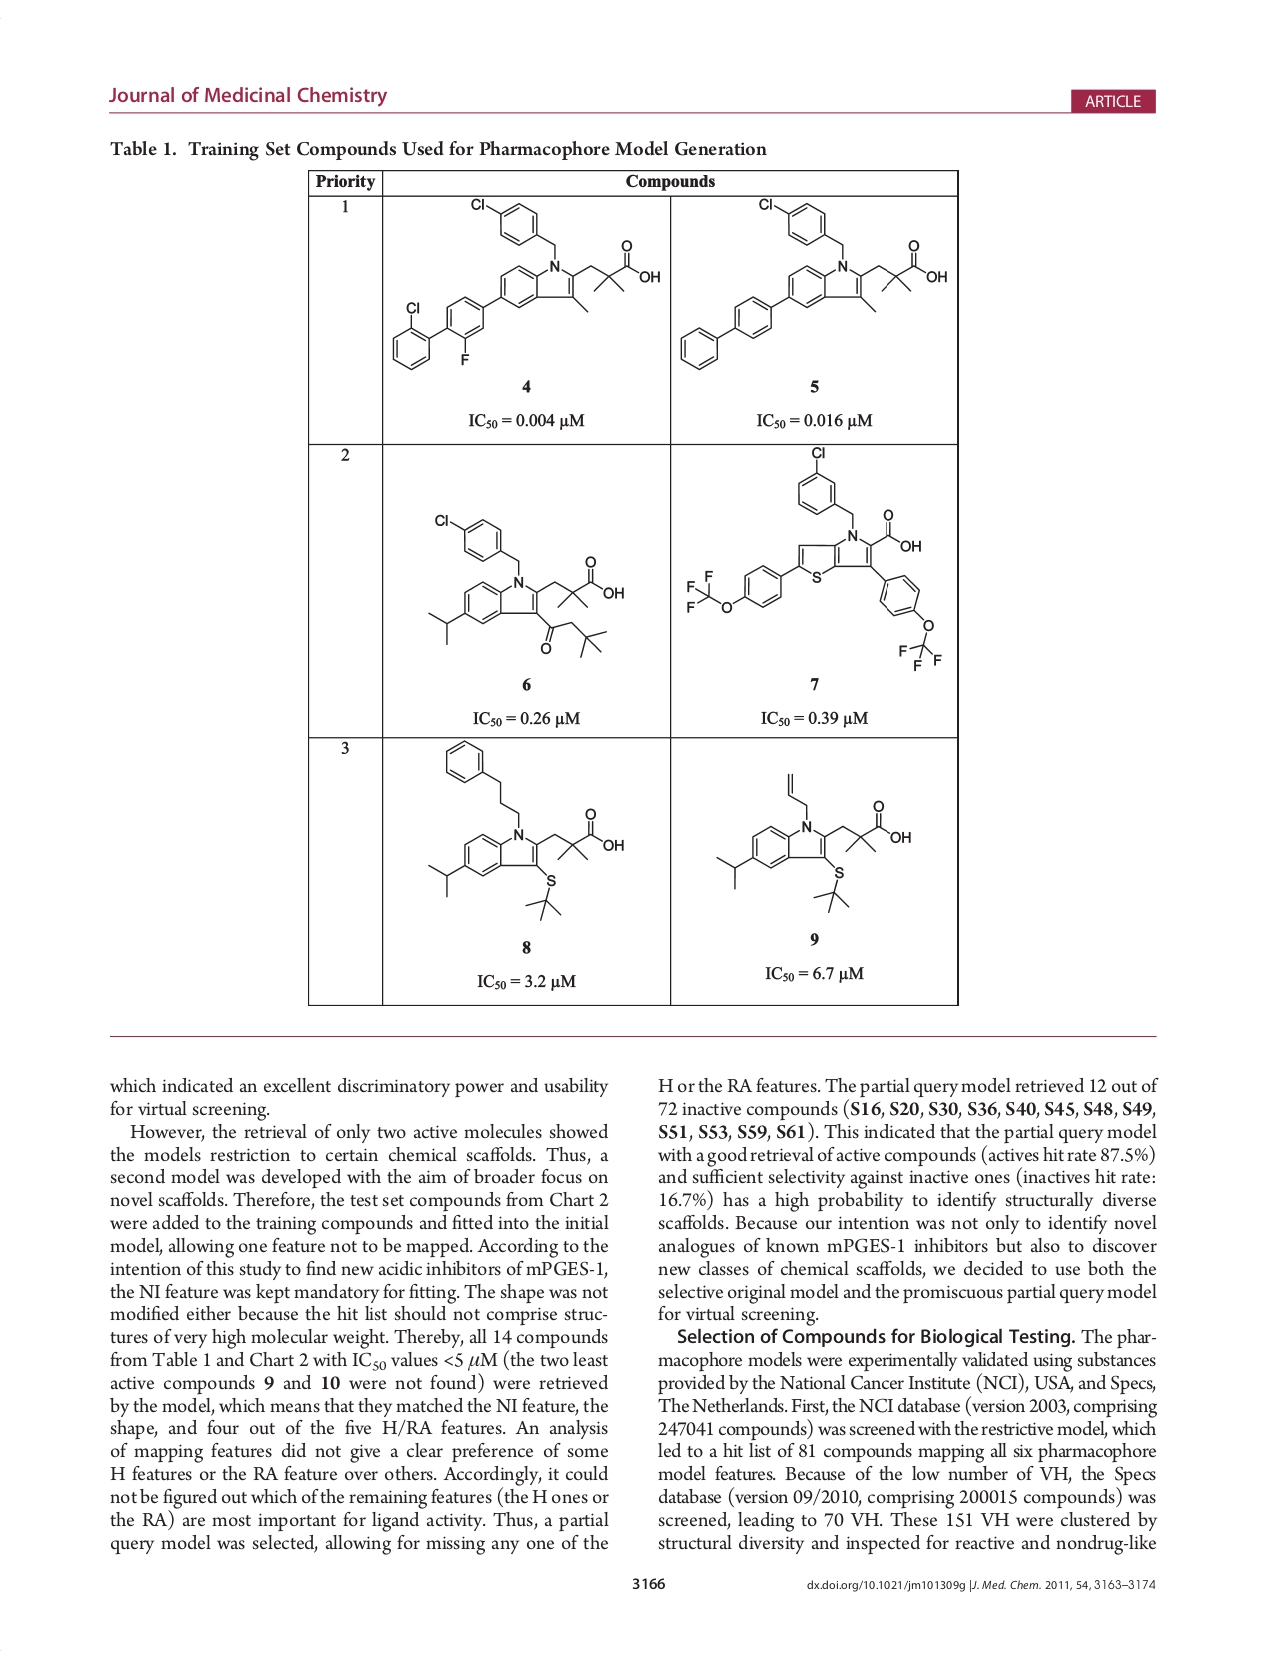exist_molecular: (682, 444, 943, 670), (677, 193, 951, 371), (390, 197, 665, 372), (428, 737, 626, 922), (418, 504, 626, 662), (711, 763, 915, 916)
